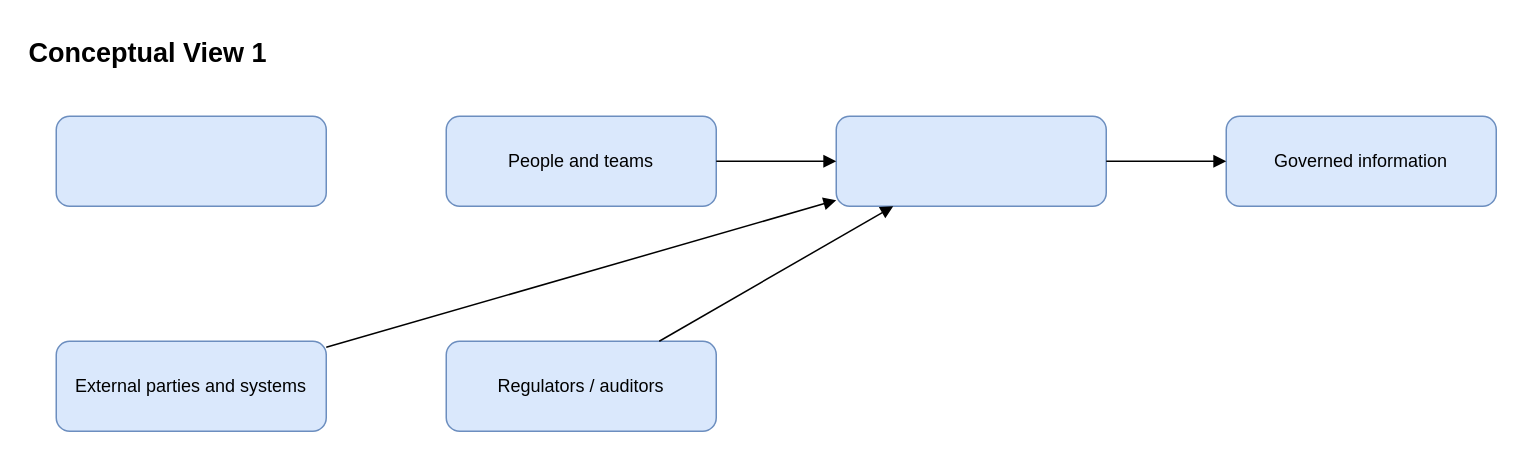
Some shapes in this 1523 by 458 pixel diagram are drawn without their labels. Each missing label, with the box of its shape:
Microsoft's Digital-Work Platform capabilities: (835, 115, 1106, 206)
Organization boundary: (55, 115, 326, 206)
